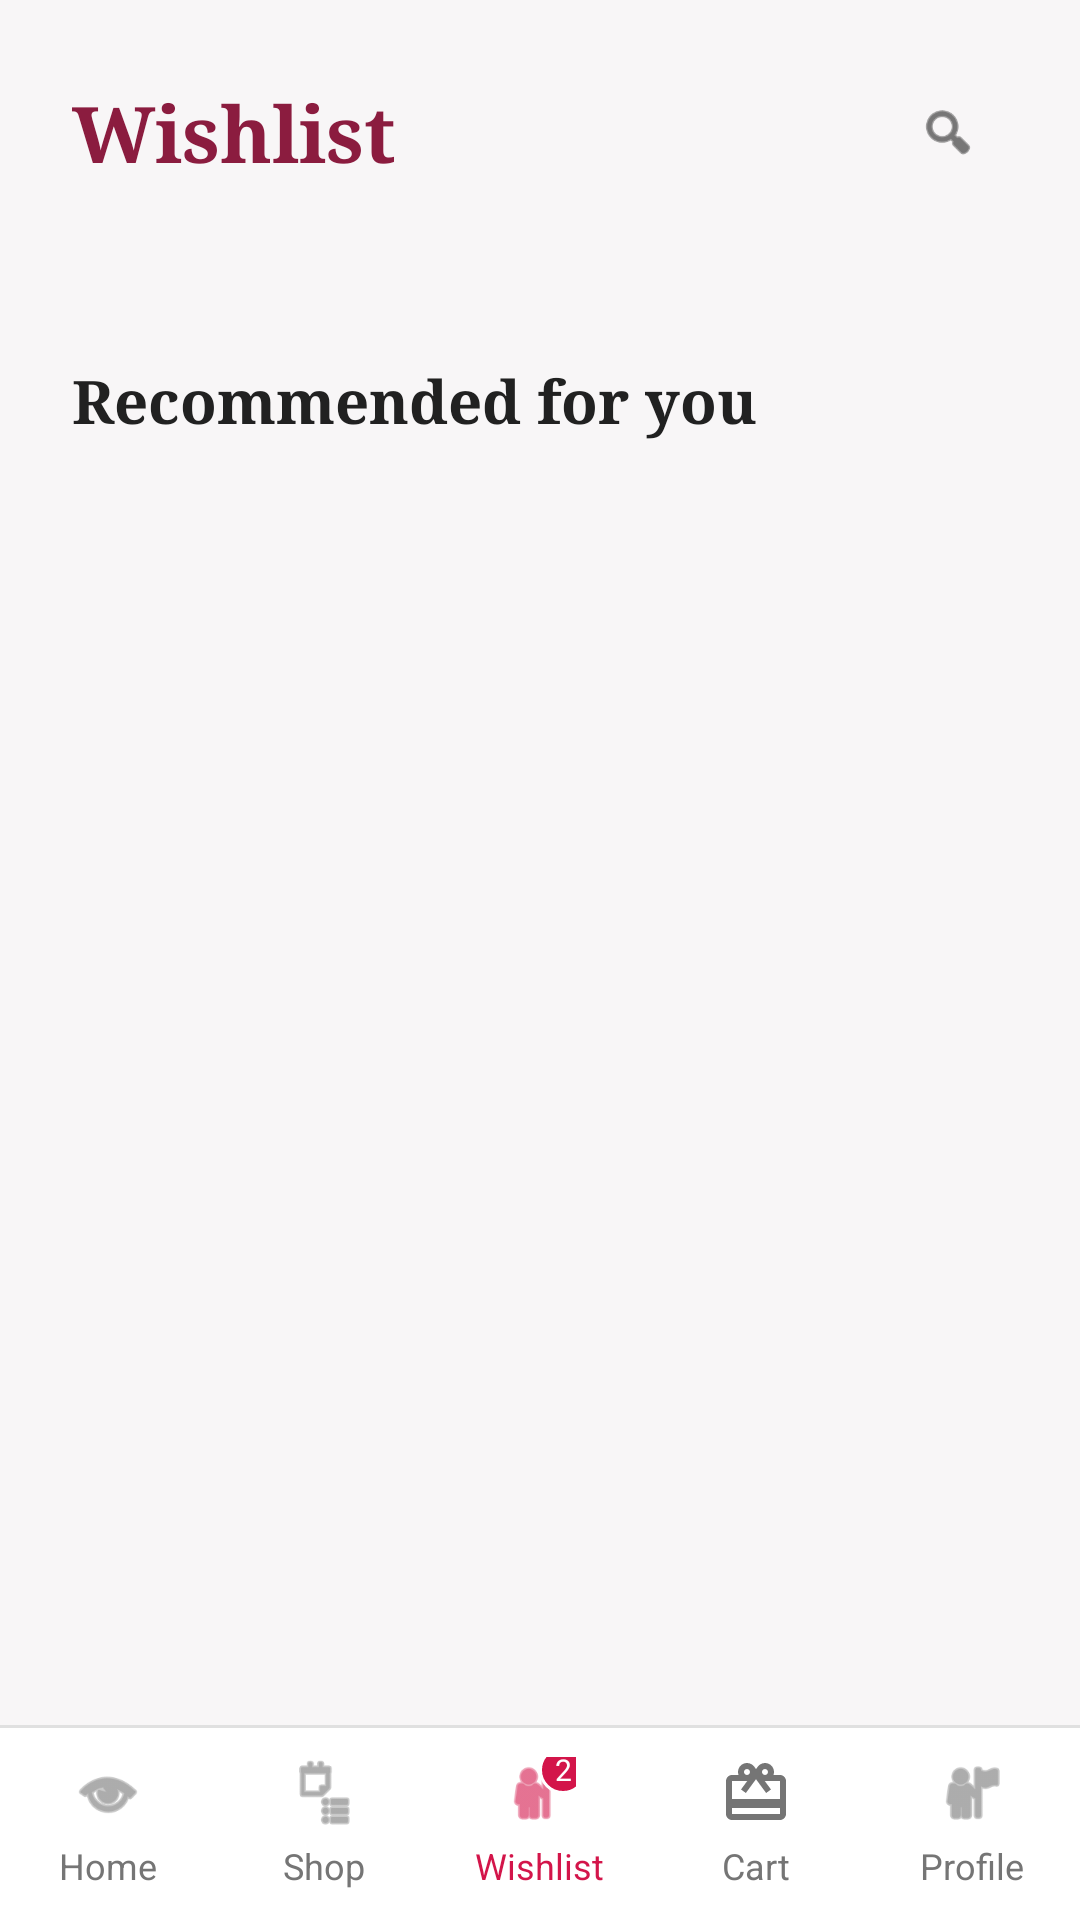

Screen size 1080 x 1920. Icon name, then its center in pixels as (x,y):
agenda: (324,1793)
gift: (756,1791)
search: (948,132)
view: (108,1795)
